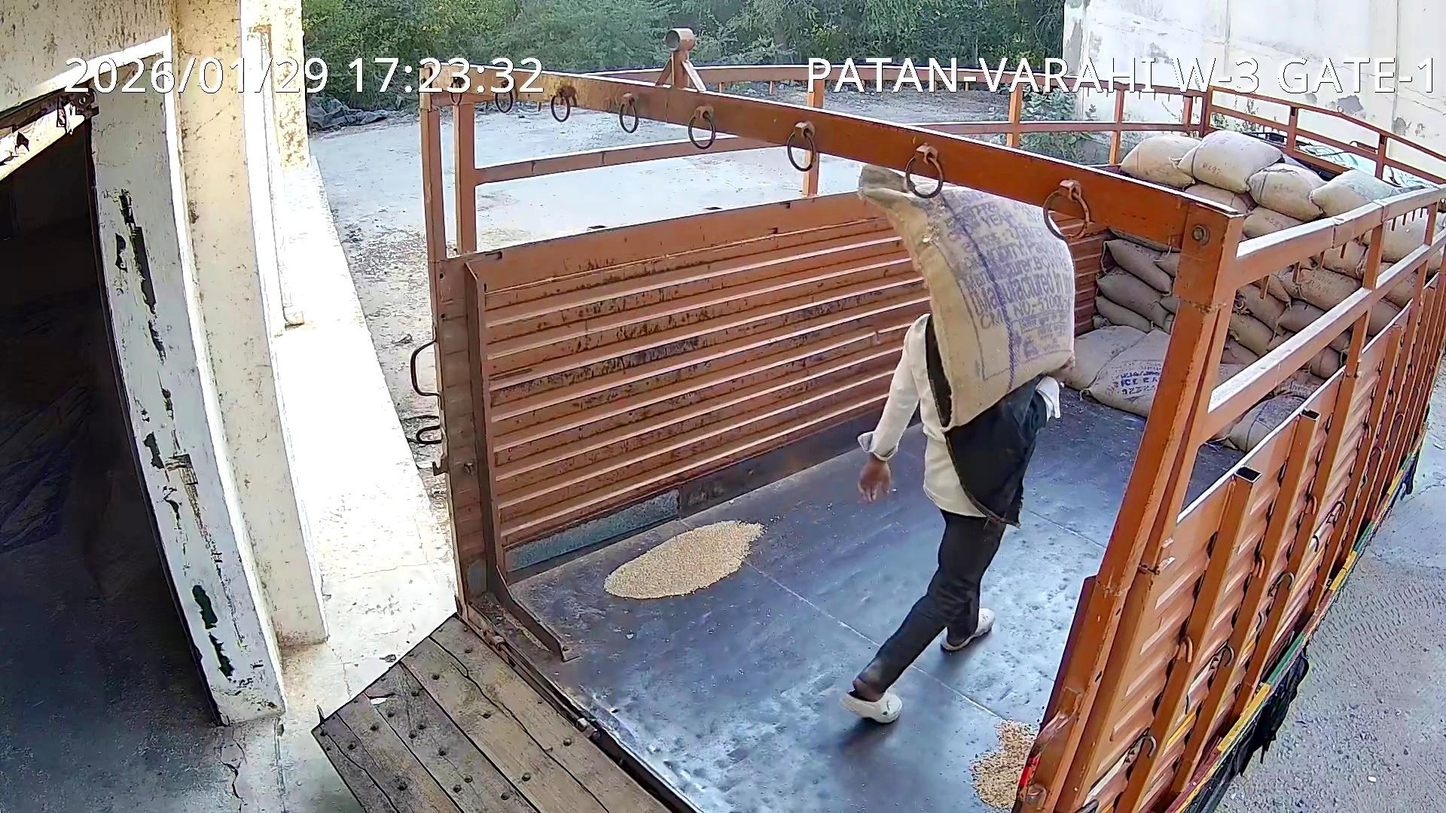Sack: (859, 166, 1075, 429)
